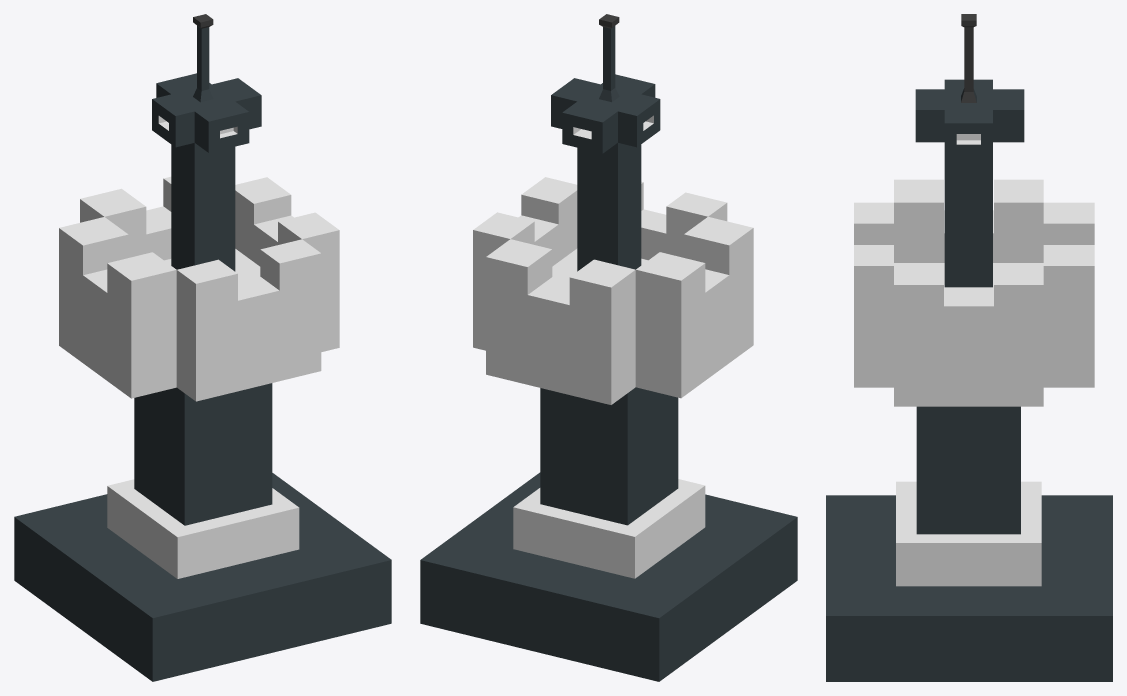
File: tower_1.glb
The picture shows the model from 3 angles, left to right: view 1: azimuth 30°, elevation 25°; view 2: azimuth 150°, elevation 25°; view 3: azimuth 270°, elevation 25°; orthographic projection. The views are drawn at different scales.
Parts seen in each view (by area): view 1: Tower_1; view 2: Tower_1; view 3: Tower_1.
Boxes of the visible parts, x1,y1,x2,y2 form: Tower_1: (14,14,391,681); Tower_1: (420,14,797,681); Tower_1: (826,14,1112,681).
Size of the model in its own units: 3.93 by 9.17 by 3.94.
1 material, 1 textured.
